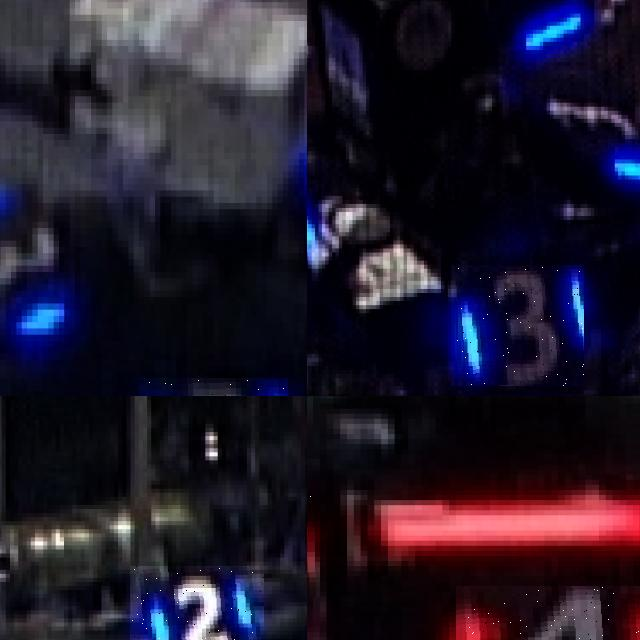B2: (130, 566, 263, 640)
B3: (451, 265, 584, 386)
R4: (456, 586, 640, 640)
